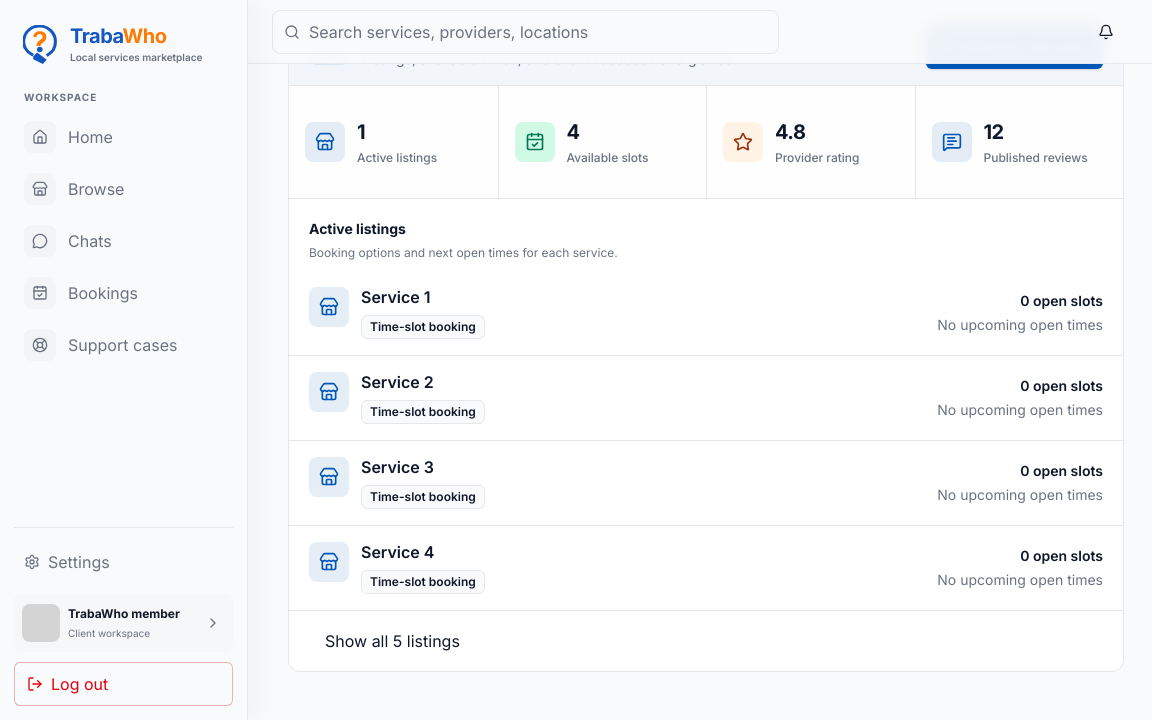
WorkerDashboard › reveals additional listings without making the overview permanently crowded
(page scrolled)
Expected: the list named "Active service listings" does not show "Service 5", [289, 270, 1123, 610]
Step 1. Click the button "Show all 5 listings" → (392, 640), box [309, 618, 476, 662]
(page scrolled)
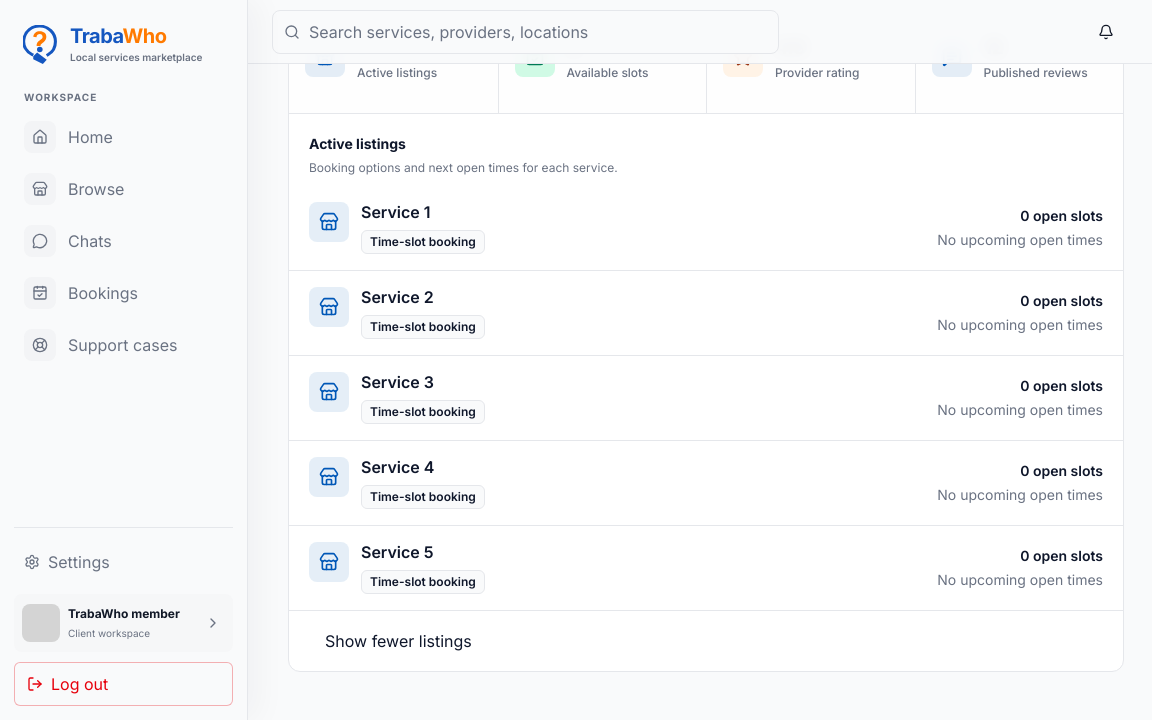
Now the list named "Active service listings" shows "Service 5", box [361, 542, 434, 562]
Now the button "Show fewer listings" is expanded, box [309, 618, 488, 662]
